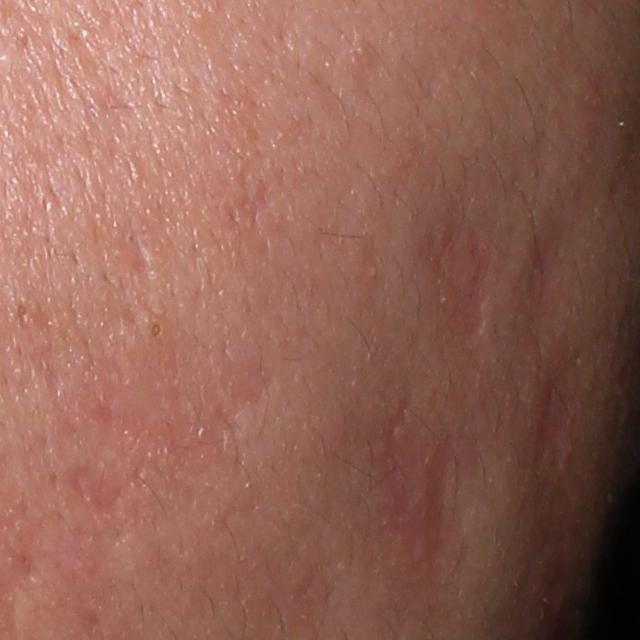atrophic_scar: (353, 391, 478, 612), (418, 222, 495, 349), (517, 340, 590, 470), (511, 229, 564, 333), (61, 461, 125, 519), (130, 238, 155, 280)
comedo: (143, 314, 171, 346)
